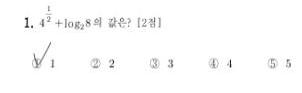choice: (29, 53, 45, 70)
not-choice: (89, 56, 102, 71), (207, 56, 220, 71), (148, 56, 161, 70), (267, 57, 278, 70)
